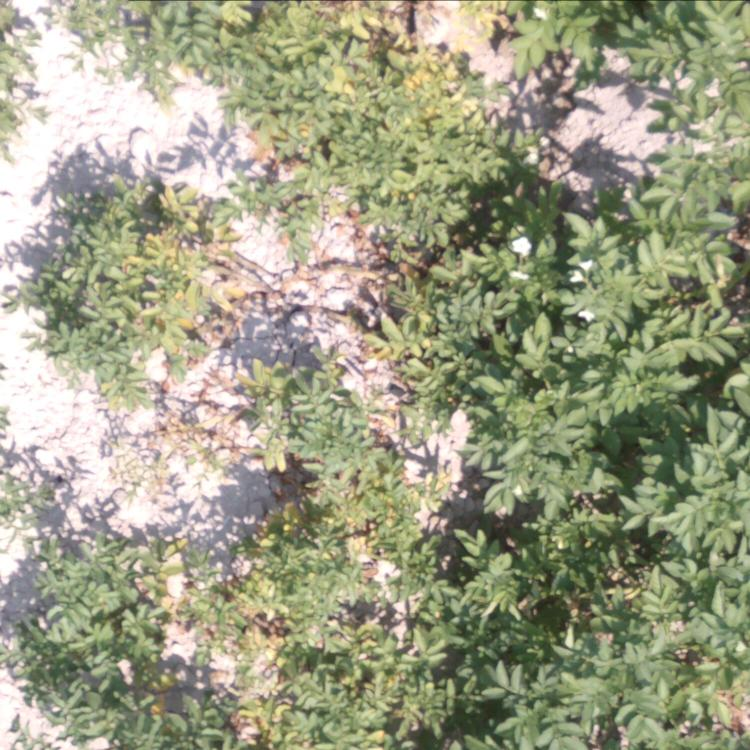healthy: (533, 488, 750, 750), (462, 294, 750, 482), (415, 486, 542, 750), (563, 150, 750, 293), (26, 527, 137, 750), (525, 3, 750, 113), (643, 112, 750, 154), (1, 1, 30, 154), (1, 419, 36, 528)
stressed: (16, 158, 232, 367), (44, 1, 524, 86), (220, 89, 529, 192), (278, 197, 557, 291), (236, 600, 408, 750), (133, 542, 240, 750), (351, 292, 459, 482), (241, 482, 409, 599), (191, 367, 345, 486), (92, 370, 184, 452)
